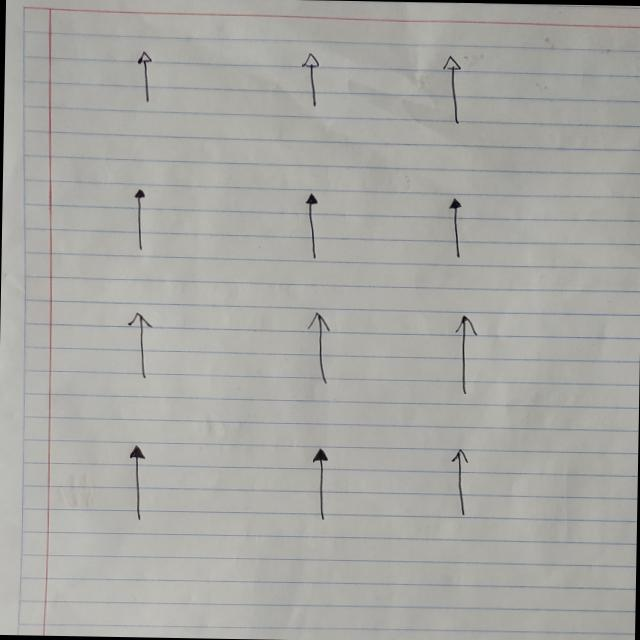arrow_line_up: (56, 494, 126, 596), (80, 228, 144, 318), (298, 495, 338, 583), (94, 344, 130, 439), (508, 366, 546, 454), (102, 109, 141, 194), (324, 236, 360, 326), (338, 122, 369, 220), (516, 244, 550, 307), (317, 358, 343, 438), (518, 504, 544, 584), (530, 114, 542, 204)
